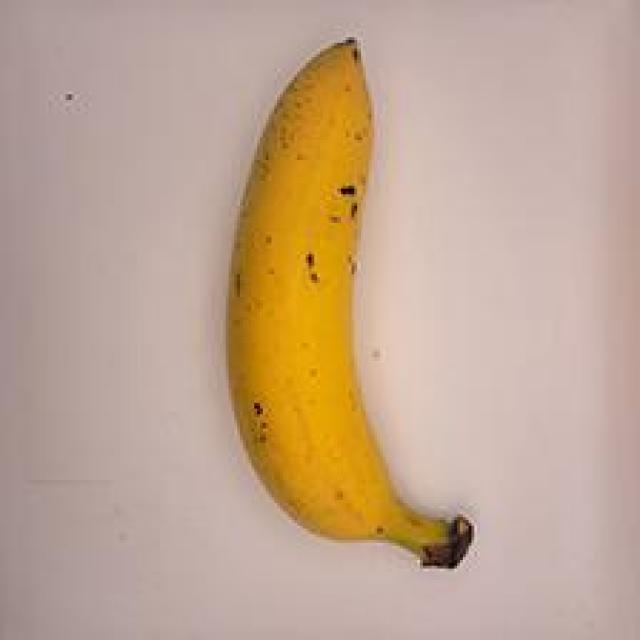ripe: (177, 31, 500, 604)
